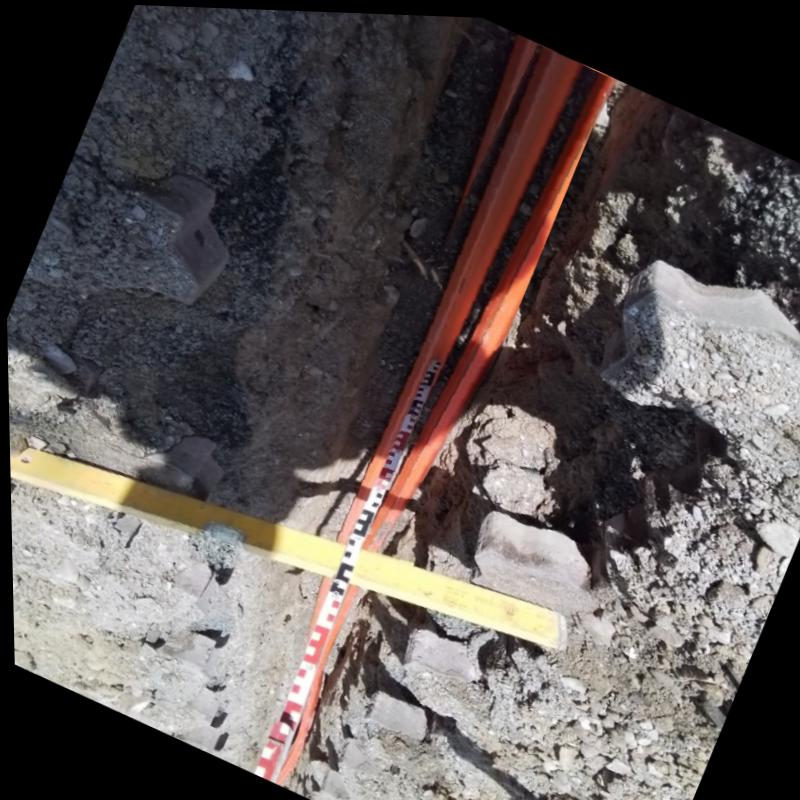Orang-Speednetrohrchen: (338, 51, 612, 549)
